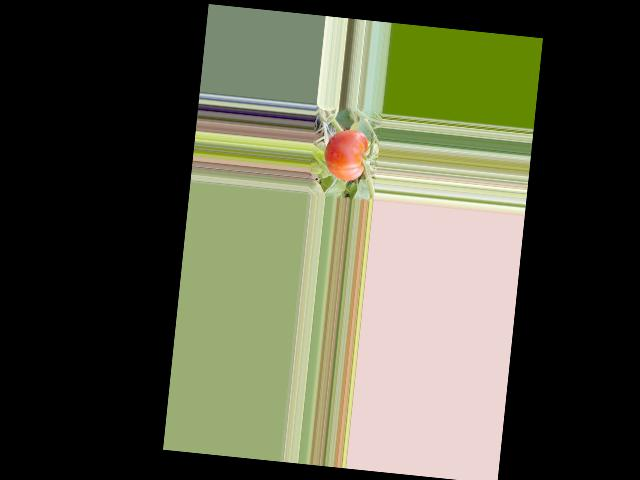tomato: (322, 126, 369, 182)
